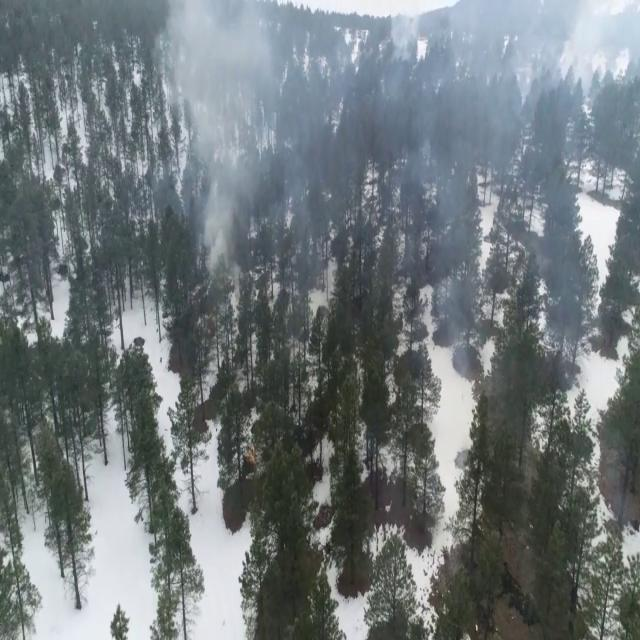fire: (244, 449, 256, 465)
